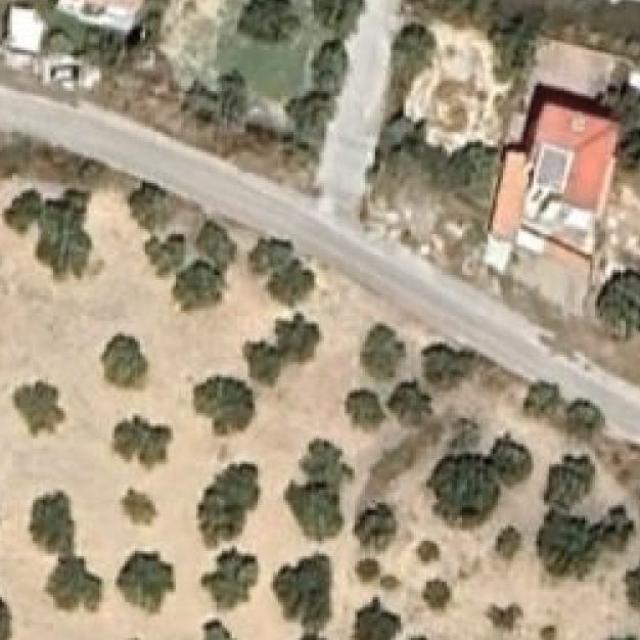Tree: (4, 188, 91, 280), (198, 464, 263, 549), (195, 546, 260, 615), (430, 459, 495, 523), (273, 554, 329, 626), (489, 4, 549, 67), (193, 377, 255, 437), (43, 553, 102, 612), (600, 86, 640, 172), (288, 485, 344, 546), (539, 520, 595, 580), (12, 377, 66, 439), (392, 17, 443, 80), (595, 270, 640, 339), (101, 331, 152, 391), (111, 416, 171, 467), (451, 144, 500, 205), (28, 493, 76, 554), (196, 70, 248, 126), (236, 0, 301, 43), (298, 440, 352, 490), (546, 454, 595, 508), (127, 554, 173, 610), (423, 344, 478, 390), (362, 324, 406, 380), (346, 597, 401, 640), (173, 263, 219, 314), (242, 231, 296, 270), (290, 91, 334, 137), (388, 381, 432, 426), (353, 505, 398, 549), (486, 437, 530, 482), (126, 180, 166, 229), (592, 510, 631, 559), (315, 0, 368, 36), (275, 316, 321, 357), (566, 396, 606, 442), (268, 260, 314, 300), (142, 234, 186, 275), (310, 42, 346, 91), (196, 217, 235, 260), (114, 490, 160, 526), (346, 391, 386, 432), (355, 559, 401, 593), (242, 347, 283, 382), (524, 379, 560, 418), (202, 617, 248, 640), (495, 526, 523, 559), (423, 579, 449, 607), (413, 541, 442, 564), (490, 607, 518, 628), (0, 592, 10, 640), (539, 624, 558, 640)
